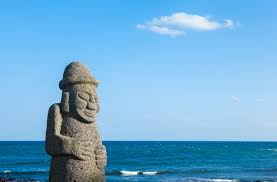Stone Statue: (26, 55, 119, 182)
